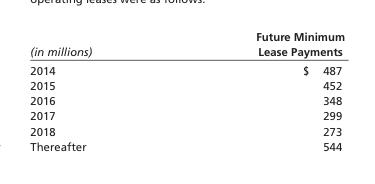table: (29, 29, 343, 152)
table column: (173, 29, 343, 152), (29, 29, 173, 152)
table column header: (29, 29, 343, 60)
table row: (29, 29, 343, 60), (29, 60, 343, 77), (29, 107, 343, 123), (29, 77, 343, 92), (29, 92, 343, 107), (29, 123, 343, 138), (29, 138, 343, 152)
